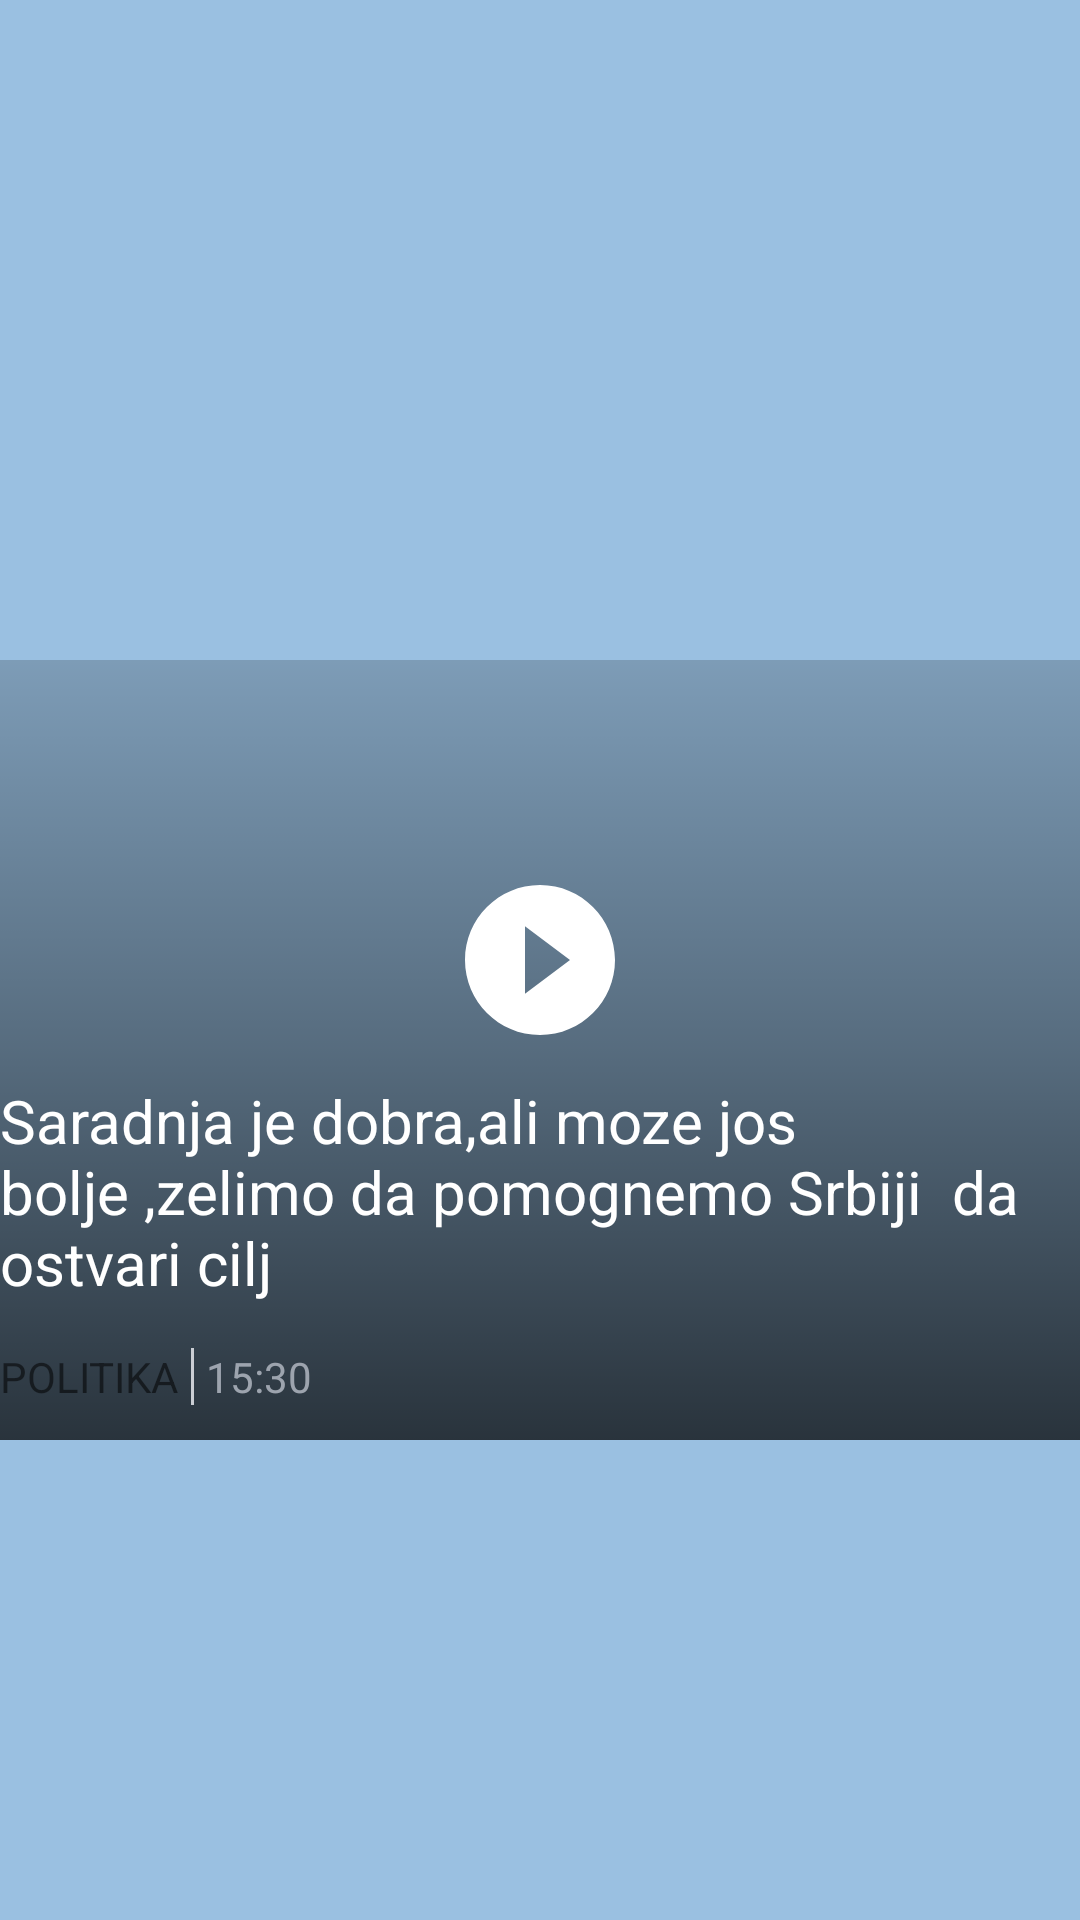

Named icons in this screenshot (1080px x 1920px) and their bounding boxes, (x1, y1, x2, y2):
play circle: (450, 870, 630, 1035)
